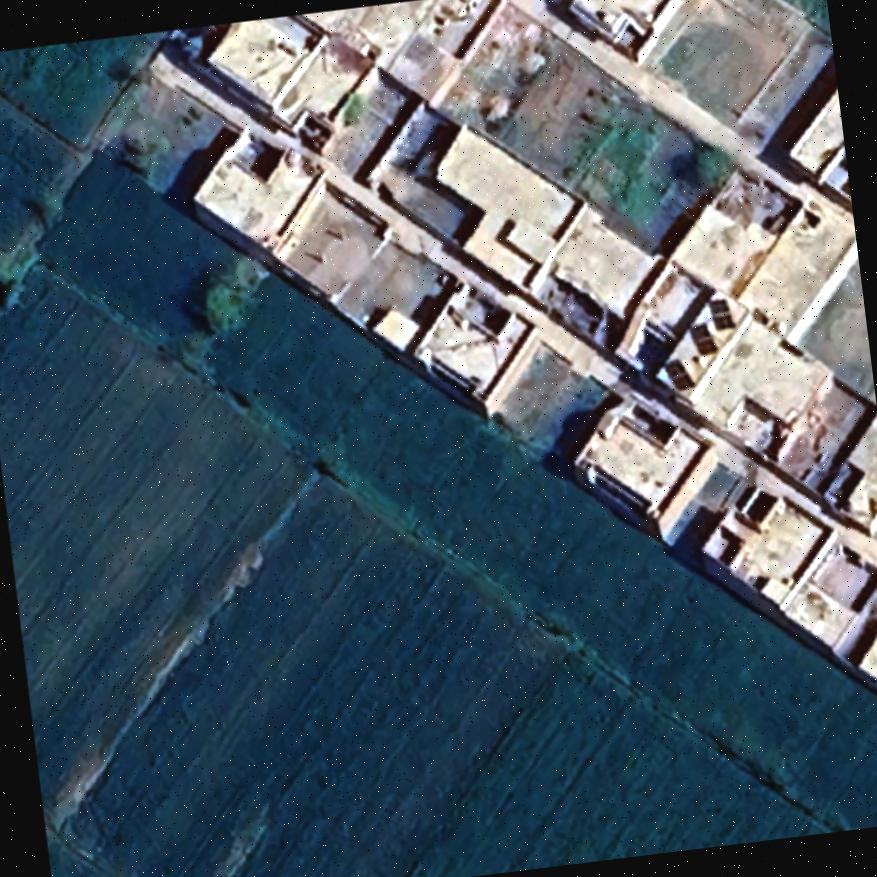Solarpanel: (659, 354, 695, 394), (684, 318, 718, 358), (704, 294, 736, 334)
